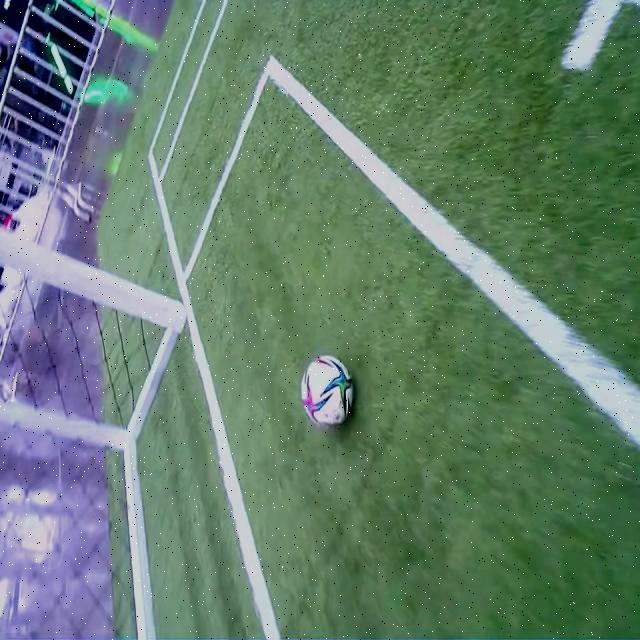ball: (301, 352, 354, 428)
